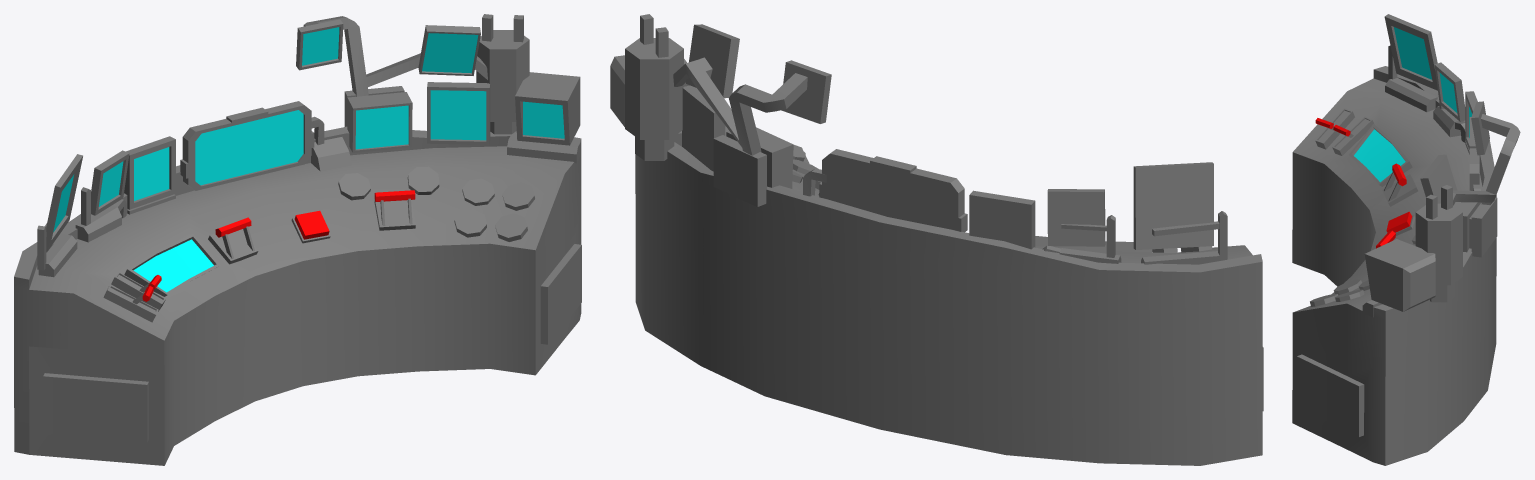
File: CommandTerminal.fbx
3 renders of one model, left to right at view 1: azimuth 30°, elevation 25°; view 2: azimuth 150°, elevation 25°; view 3: azimuth 270°, elevation 25°, orthographic. The views are drawn at different scales.
Parts seen in each view (by area): view 1: Terminal, Screens; view 2: Terminal; view 3: Terminal, Screens.
Boxes of the visible parts, <box> form: Terminal: <box>14,14,581,465</box>; Screens: <box>53,27,564,292</box>; Terminal: <box>610,14,1263,465</box>; Terminal: <box>1292,14,1520,465</box>; Screens: <box>1354,27,1472,182</box>.
Bounding box in the file's own units: 5.3 × 2.65 × 2.05.
3 materials, 3 textured.
